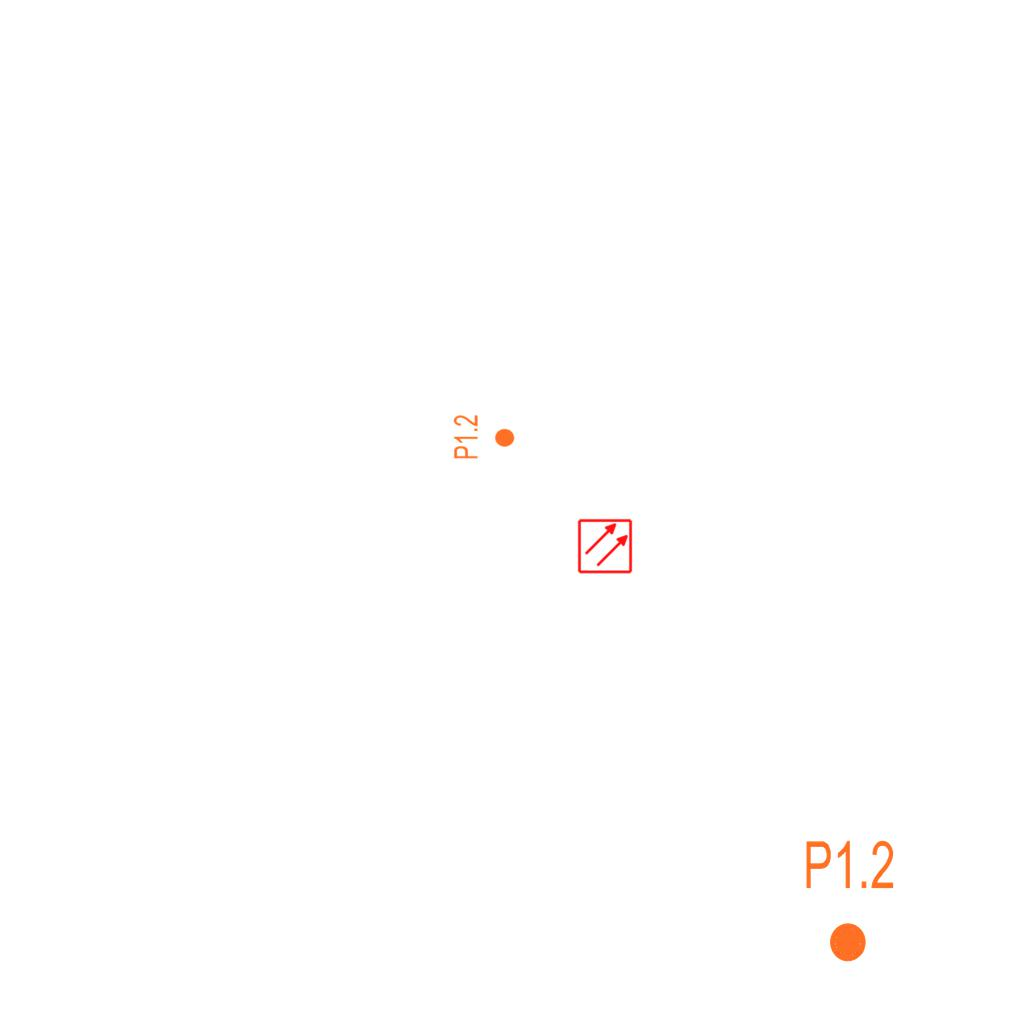Downlight_LED_Einbauleuchten_Flur: (803, 837, 896, 965), (452, 414, 516, 460)
RMO_Rauchmelder_optischer: (577, 518, 633, 574)
